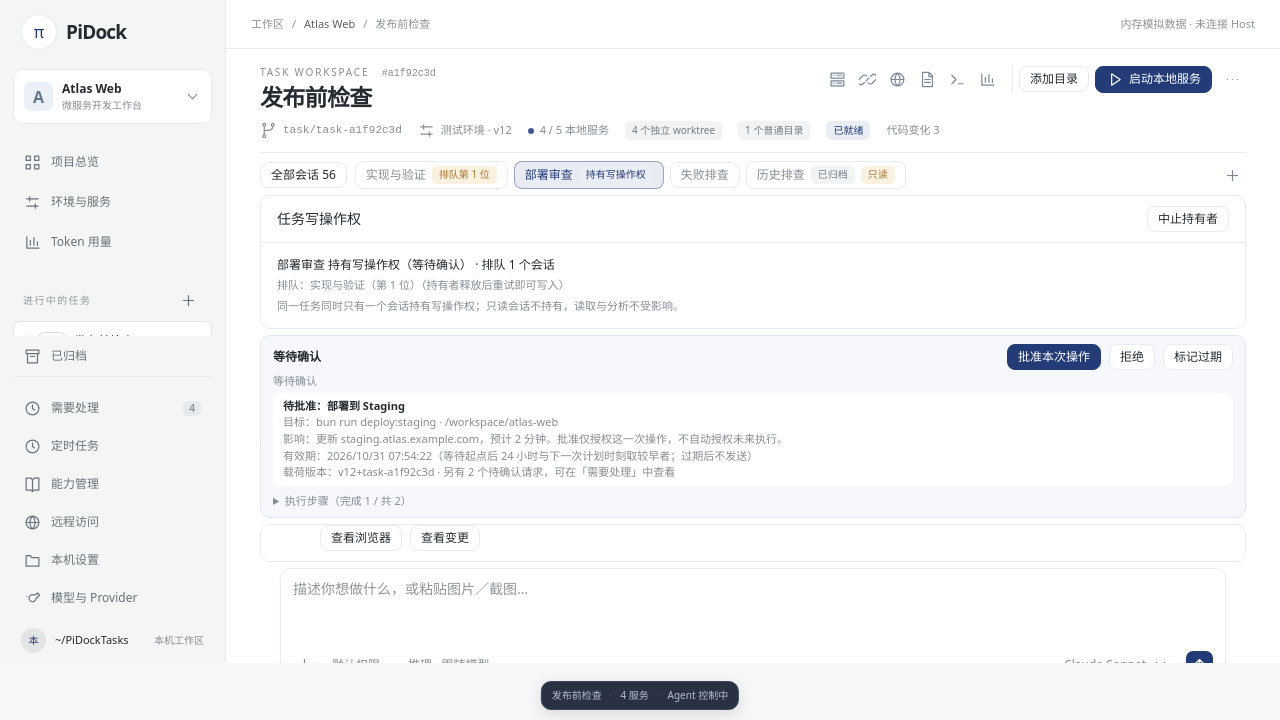
multi-session write coordination › shows the holder, queues a second session and releases the right from the abort entry
(page scrolled)
Expected: the heading "发布前检查" is shown, [260,81,372,113]
Expected: the text with test id "write-coordination" shows "部署审查 持有写操作权（等待确认）", [277,256,555,273]
// Abort the holder: the right is released and the queue is cleared.
Click the button "中止持有者": x=1188, y=219 [1147,206,1229,232]
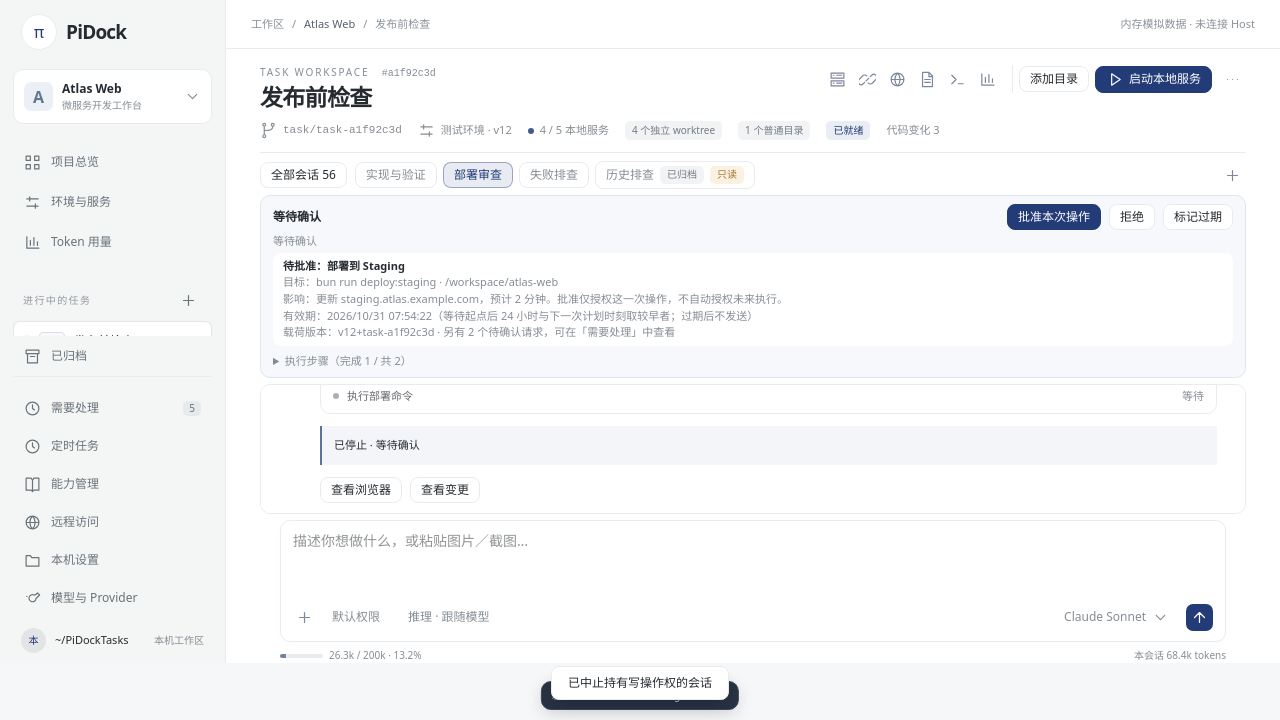
Now the text with test id "write-coordination" is gone
